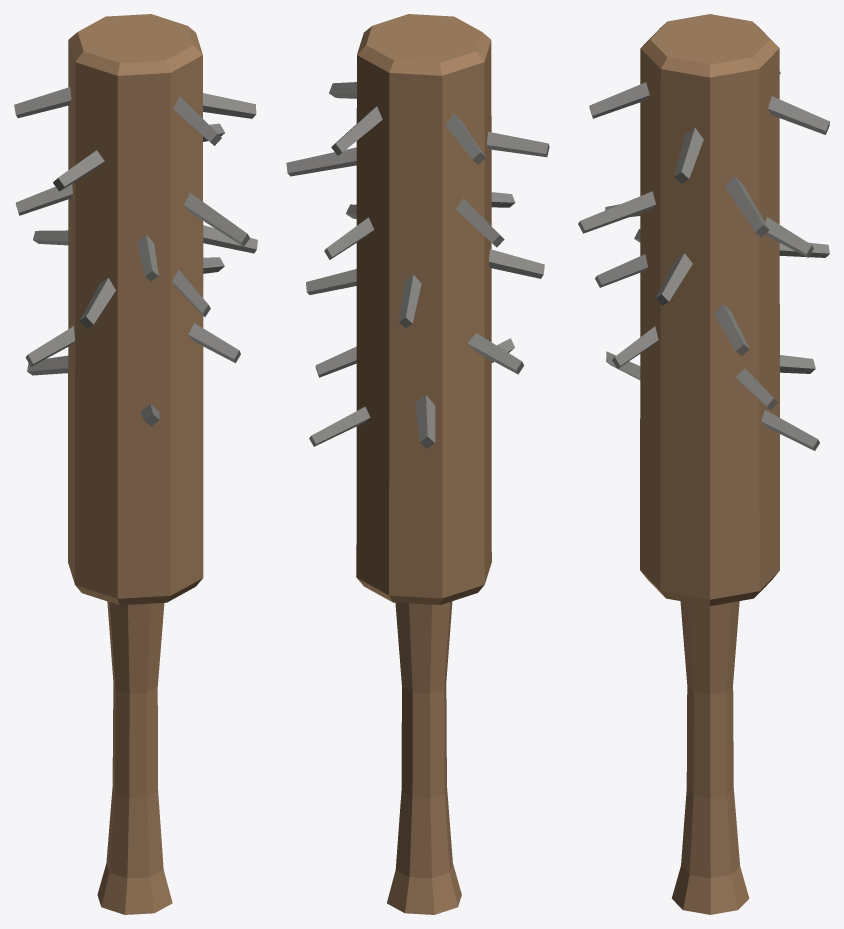
File: SM_pwe_medieval_club_02.fbx
The picture shows the model from 3 angles, left to right: view 1: azimuth 30°, elevation 25°; view 2: azimuth 150°, elevation 25°; view 3: azimuth 270°, elevation 25°; orthographic projection.
Parts seen in each view (by area): view 1: SM_pwe_medieval_club_02; view 2: SM_pwe_medieval_club_02; view 3: SM_pwe_medieval_club_02.
Part boxes in pixels (x1,y1,x2,y2): SM_pwe_medieval_club_02: (14, 14, 257, 914); SM_pwe_medieval_club_02: (286, 14, 549, 914); SM_pwe_medieval_club_02: (578, 14, 829, 914).
Size of the model in its own units: 15.23 by 58.17 by 15.46.
